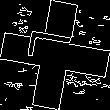L_E: (27, 36, 83, 74)
